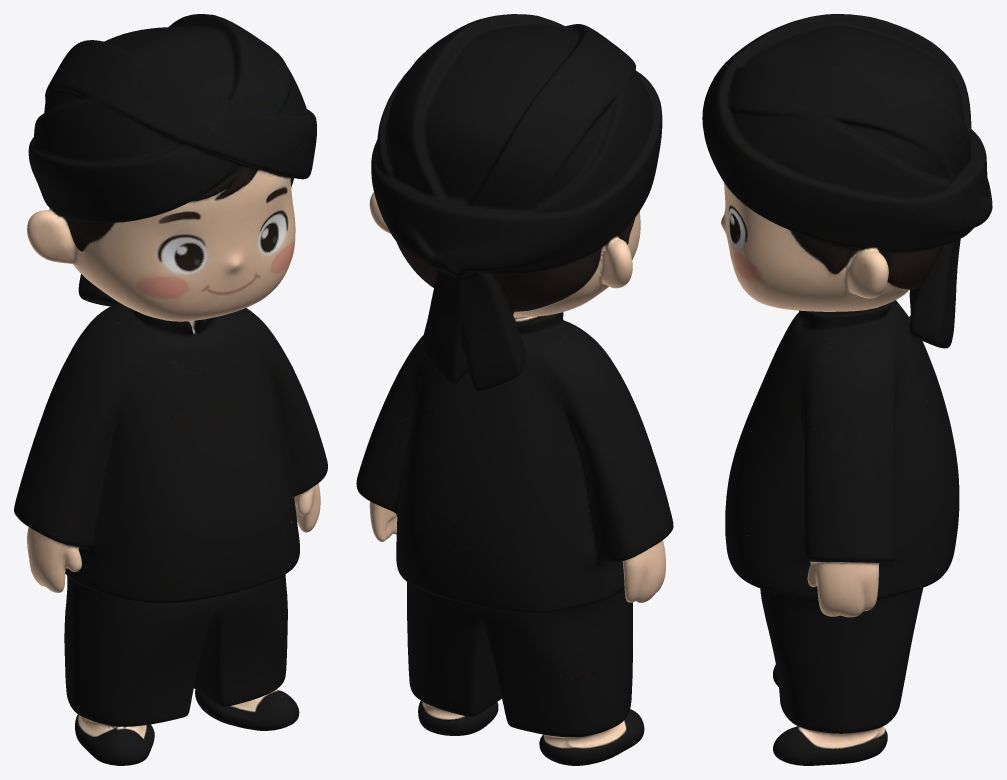
The model's file is sawala-mascot.glb.
3 renders of one model, left to right at view 1: azimuth 30°, elevation 25°; view 2: azimuth 150°, elevation 25°; view 3: azimuth 270°, elevation 25°, orthographic. The views are drawn at different scales.
Bounding box in the file's own units: 0.8447 × 1.9 × 0.7298.
1 material, 1 textured.
